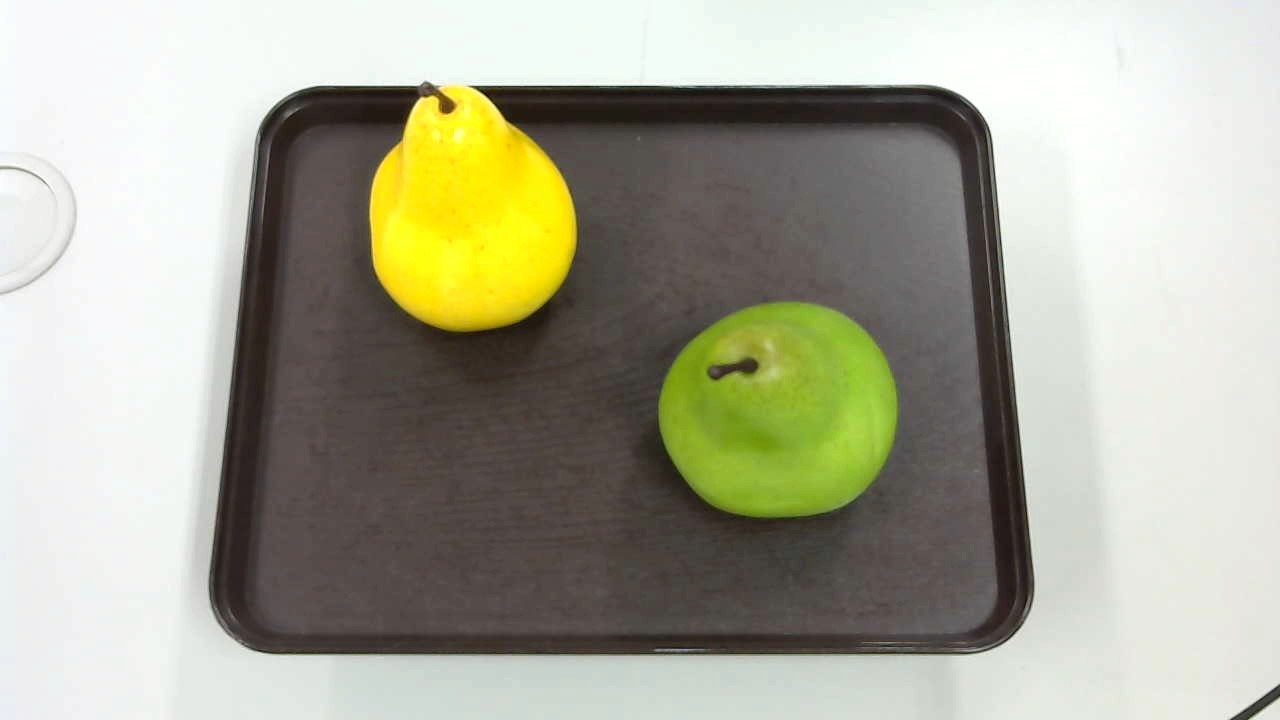green pear: (649, 298, 902, 520)
yellow pear: (368, 76, 582, 328)
